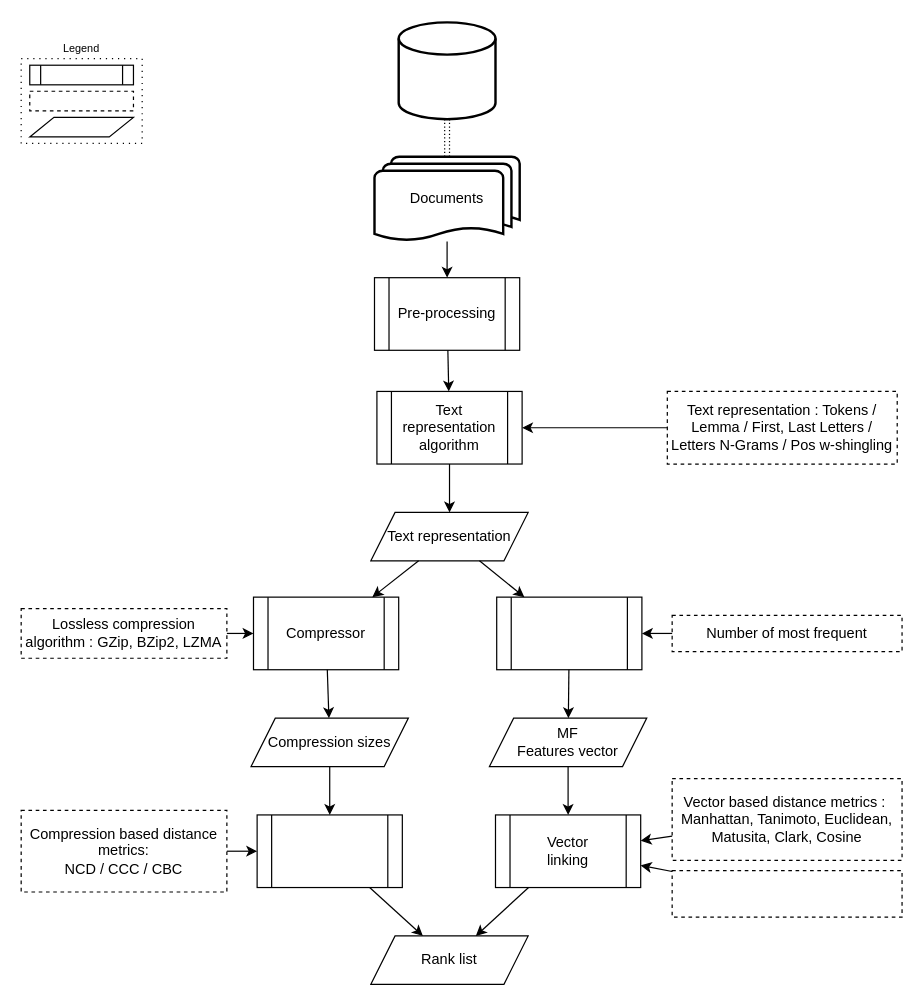
Some shapes in this 923 by 1006 pixel diagram are drawn without their labels. Here are the shapes that lost their labels. From the top down, the centre of each, then its label:
[81,74]: Process
[446,70]: Corpus
[81,100]: Parameters
[81,126]: Input / Output
[568,633]: MF Features extractor
[329,851]: Compression linking
[786,893]: Smoothing : Lidstone Normalization : Z-score
